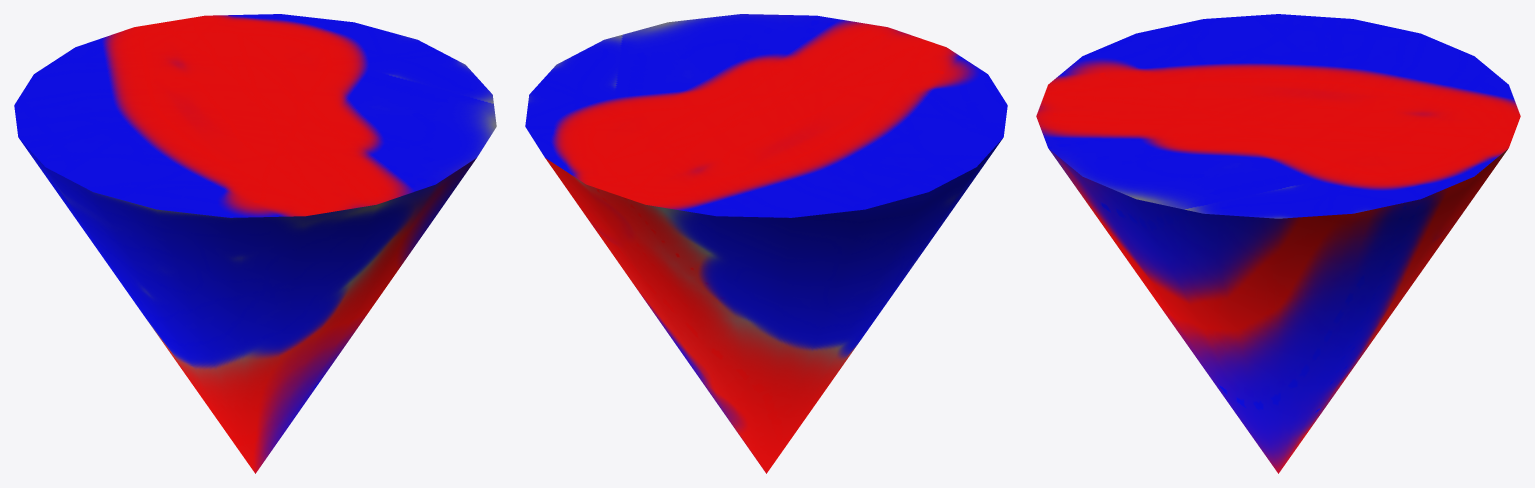
Rendered from Bucket.fbx.
3 views of the same model, side by side, from view 1: azimuth 30°, elevation 25°; view 2: azimuth 150°, elevation 25°; view 3: azimuth 270°, elevation 25° (orthographic).
Visible parts, largest first — view 1: pCone1; view 2: pCone1; view 3: pCone1.
Part boxes in pixels (box(x1,y1,x2,y2)): pCone1: box(14, 14, 496, 473); pCone1: box(525, 14, 1007, 473); pCone1: box(1036, 14, 1520, 473).
Bounding box in the file's own units: 12.07 × 9.83 × 12.07.
